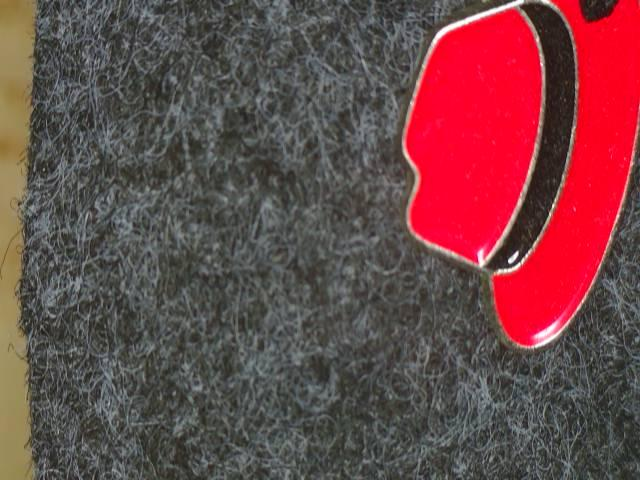Red-Hat: (379, 0, 640, 363)
Scratch: (572, 0, 631, 31)
